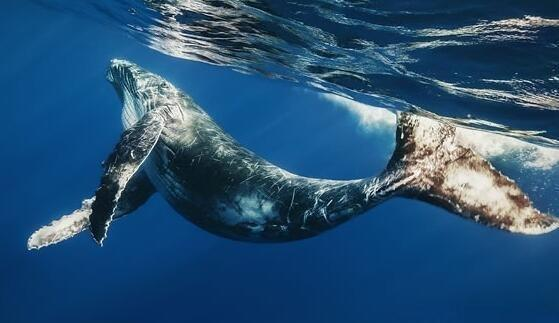fish: (22, 57, 559, 250)
